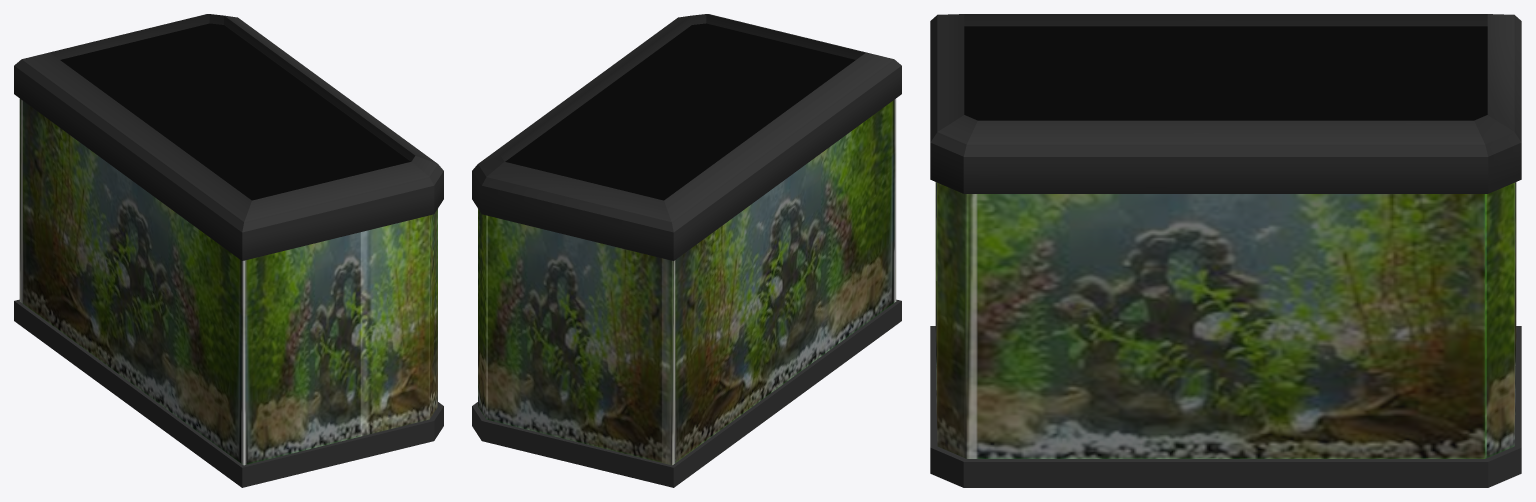
Rendered from fishtank.FBX.
3 views of the same model, side by side, from view 1: azimuth 30°, elevation 25°; view 2: azimuth 150°, elevation 25°; view 3: azimuth 270°, elevation 25° (orthographic). The views are drawn at different scales.
Visible parts, largest first — view 1: Box007; view 2: Box007; view 3: Box007.
Part boxes in pixels (x1=…): Box007: x1=14, y1=14, x2=443, y2=487; Box007: x1=472, y1=14, x2=901, y2=487; Box007: x1=930, y1=14, x2=1521, y2=487.
Bounding box in the file's own units: 0.43 × 0.5211 × 0.7915.
